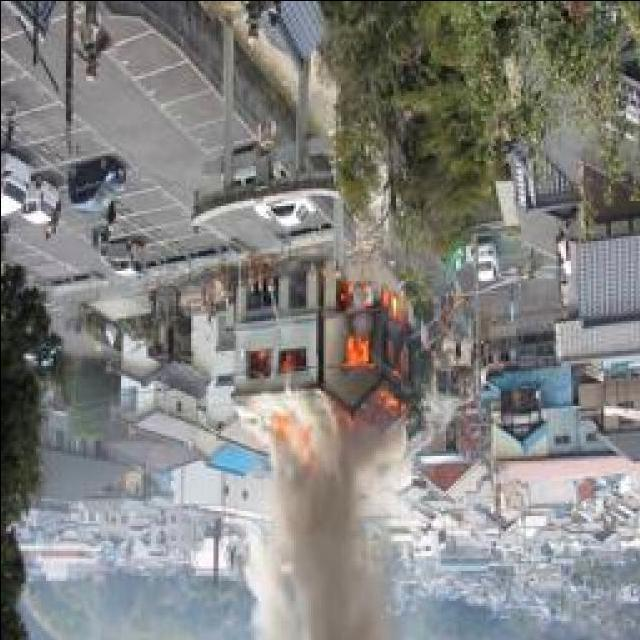Fire: (332, 274, 416, 408)
